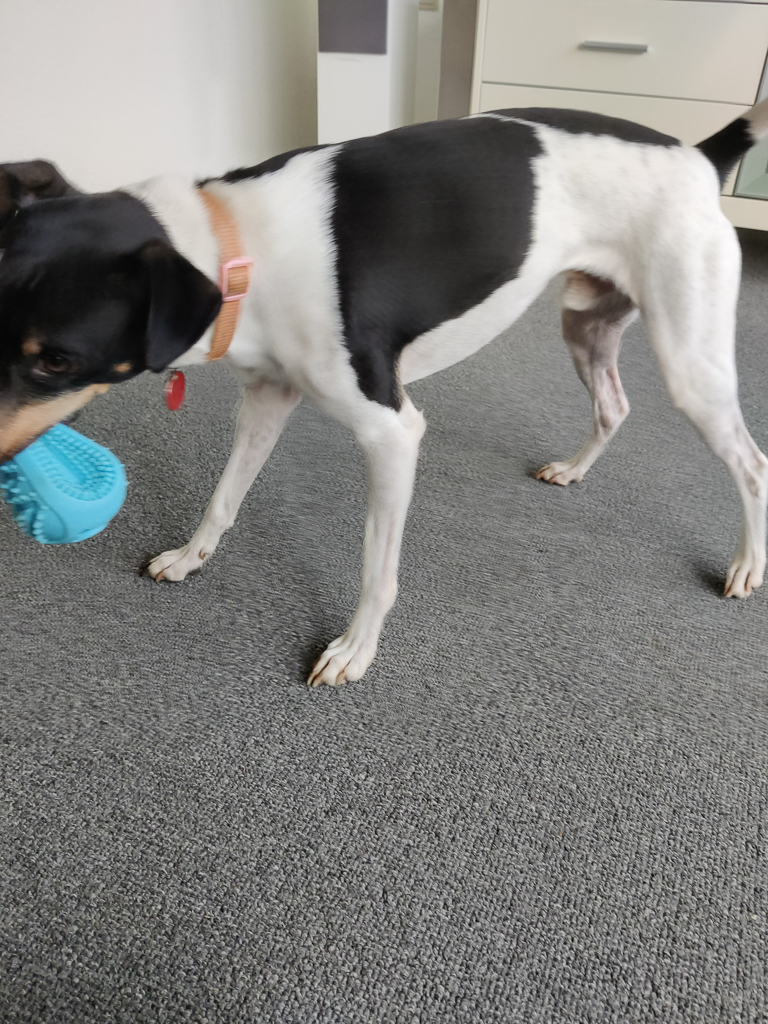Dog: (0, 74, 768, 725)
